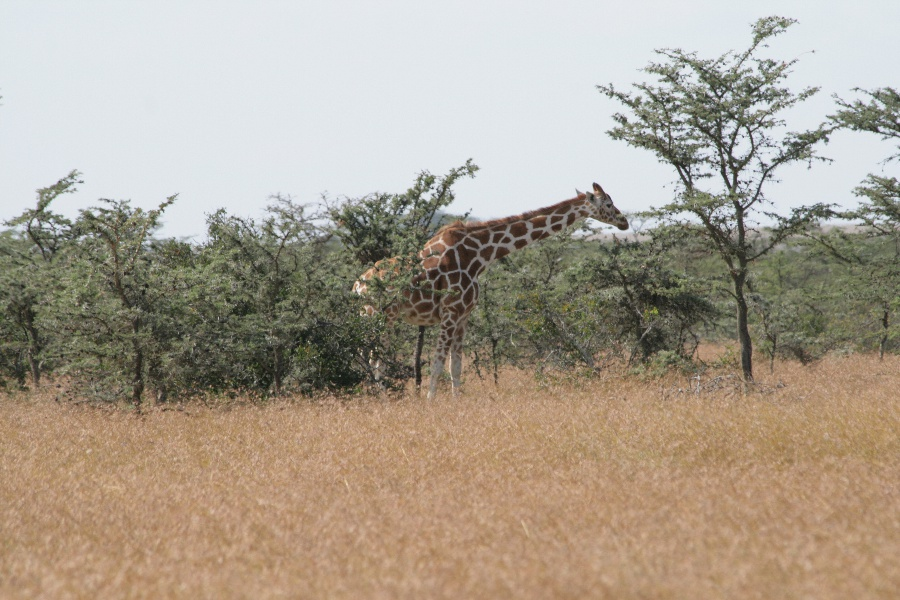giraffe: (344, 173, 634, 402)
